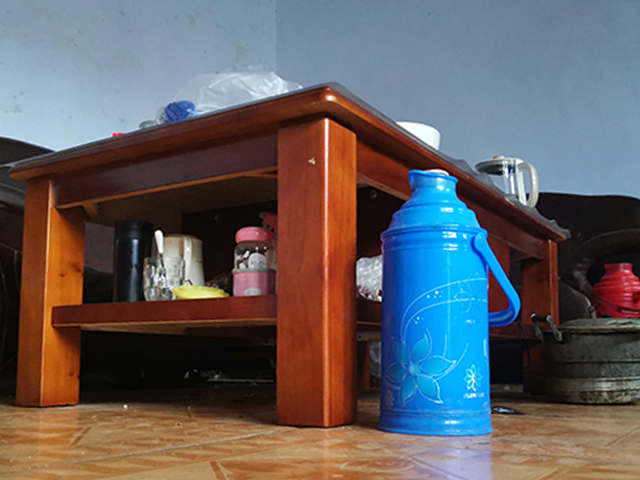table: (1, 80, 572, 431)
